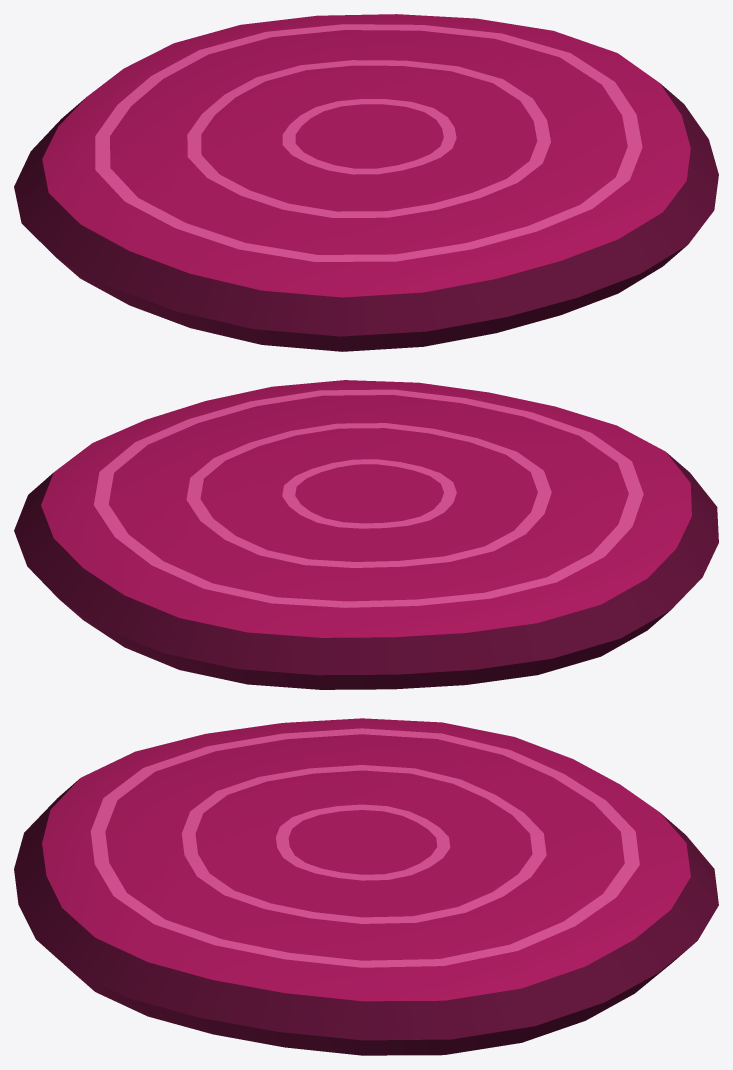
The model's file is Food_BeetSlices.fbx.
The picture shows the model from 3 angles, top to bottom: view 1: azimuth 30°, elevation 25°; view 2: azimuth 150°, elevation 25°; view 3: azimuth 270°, elevation 25°; orthographic projection. The views are drawn at different scales.
Visible parts, largest first — view 1: Flesh, Skin, Rings; view 2: Flesh, Skin, Rings; view 3: Flesh, Skin, Rings.
Part boxes in pixels (x1,y1,x2,y2): Flesh: (42,14,690,297); Skin: (14,83,718,351); Rings: (95,24,642,261); Flesh: (41,380,691,637); Skin: (14,452,718,689); Rings: (94,389,643,607); Flesh: (42,718,690,1001); Skin: (14,779,718,1055); Rings: (90,728,639,967).
Size of the model in its own units: 72.02 by 8.39 by 69.94.
